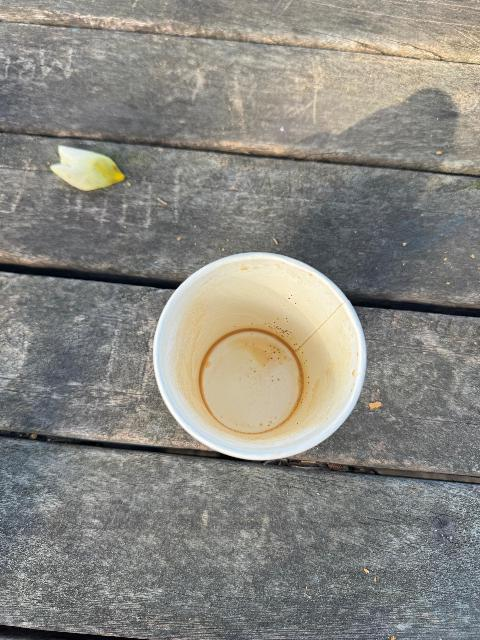Kagit: (147, 247, 380, 480), (52, 138, 131, 194)
